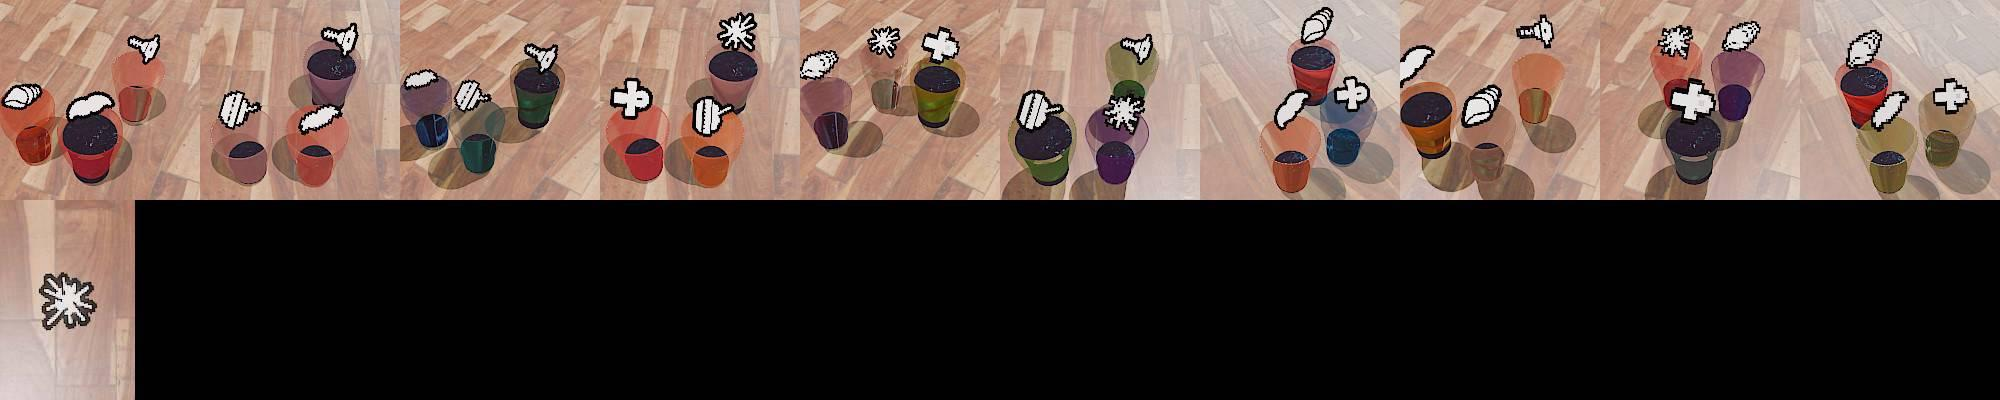icon: (37, 271, 97, 330), (1668, 76, 1717, 124), (1017, 88, 1064, 131), (608, 76, 654, 118), (690, 94, 735, 136), (717, 10, 759, 55), (1460, 83, 1503, 126), (218, 90, 264, 129), (1101, 92, 1143, 132), (1330, 73, 1372, 112), (1273, 88, 1311, 130), (920, 25, 960, 64), (1869, 92, 1909, 130), (1846, 28, 1884, 69), (66, 90, 116, 121), (297, 102, 343, 134), (1517, 13, 1556, 50), (1929, 78, 1969, 113), (1399, 45, 1434, 85), (1721, 19, 1761, 54), (1298, 6, 1334, 45), (321, 22, 360, 57), (453, 78, 492, 112), (800, 48, 841, 82), (1658, 24, 1694, 59), (1, 82, 43, 110), (523, 42, 560, 74), (867, 25, 901, 57), (128, 33, 161, 65), (1120, 33, 1154, 64), (402, 68, 439, 89)
